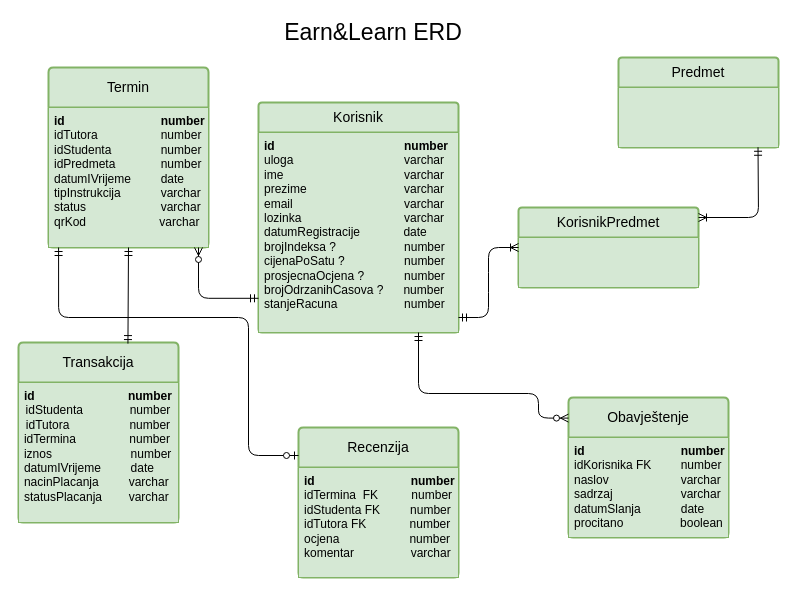
The diagram is 796 pixels wide and 595 high, and some of its shapes have lost their labels. The shapes that lost their labels are listed below. From the top down, each one's centre as x and y in pixels, then its label:
point (698, 117): id number naziv varchar
point (608, 262): idKorisnika FK number idPredmeta FK number
